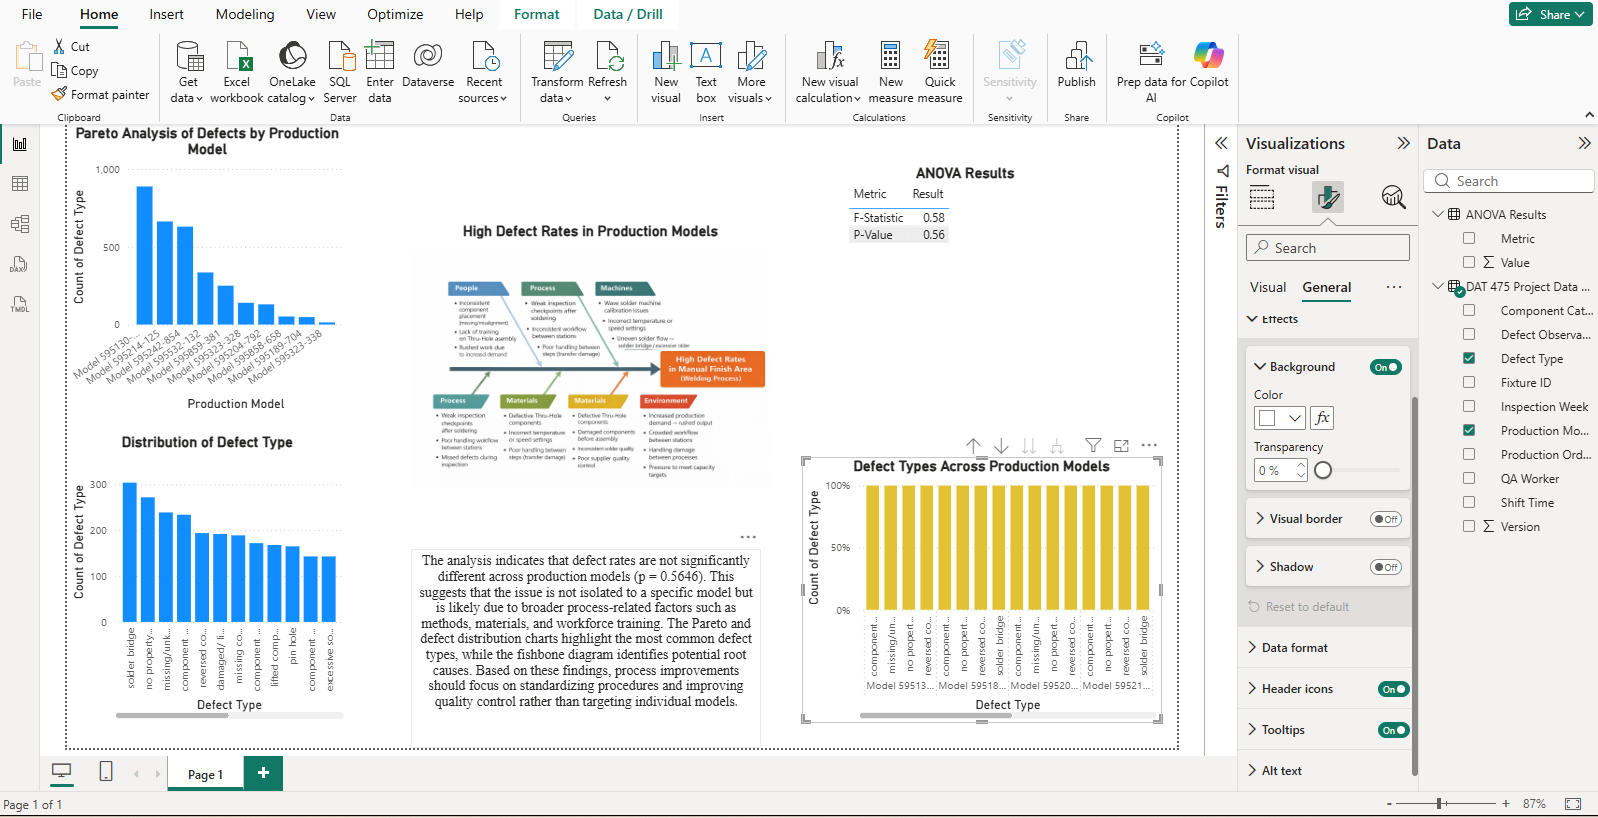

What the dashboard file says about the page in this screenshot:
{"tool":"powerbi","page":{"name":"Page 1","canvas":[1280,720],"ordinal":0},"visuals":[{"type":"clusteredColumnChart","title":"Pareto Analysis of Defects by Production Model","fields":{"Category":["DAT 475 Project Data Set.Production Model"],"Y":["CountNonNull(DAT 475 Project Data Set.Defect Type)"]},"box":[0,0,323.9,335.4],"z":0},{"type":"image","title":"High Defect Rates in Production Models","box":[396.9,113.1,414.2,315],"z":1},{"type":"tableEx","title":"ANOVA Results","fields":{"Values":["ANOVA Results.Metric","ANOVA Results.Value"]},"box":[896.9,45.8,279.8,279.8],"z":2},{"type":"clusteredColumnChart","title":"Distribution of Defect Type","fields":{"Y":["CountNonNull(DAT 475 Project Data Set.Defect Type)"],"Category":["DAT 475 Project Data Set.Defect Type"]},"box":[0,356.5,324,335],"z":3},{"type":"hundredPercentStackedColumnChart","title":"Defect Types Across Production Models","fields":{"Category":["DAT 475 Project Data Set.Production Model","DAT 475 Project Data Set.Defect Type"],"Y":["CountNonNull(DAT 475 Project Data Set.Defect Type)"]},"box":[848.5,384.4,414.5,307.3],"z":4},{"type":"textbox","box":[396.9,490.4,403.8,229.6],"z":5}]}

Visuals, with their boxes on the page's 1280x720 design canvas (x1, y1, x2, y2). These are canvas units, not pixel positions in the 1598x818 screenshot, which may show the page scaled, cropped or inside an application window:
"Pareto Analysis of Defects by Production Model" clusteredColumnChart: bbox=[0, 0, 324, 335]
"High Defect Rates in Production Models" image: bbox=[397, 113, 811, 428]
"ANOVA Results" tableEx: bbox=[897, 46, 1177, 326]
"Distribution of Defect Type" clusteredColumnChart: bbox=[0, 356, 324, 692]
"Defect Types Across Production Models" hundredPercentStackedColumnChart: bbox=[848, 384, 1263, 692]
textbox: bbox=[397, 490, 801, 720]
